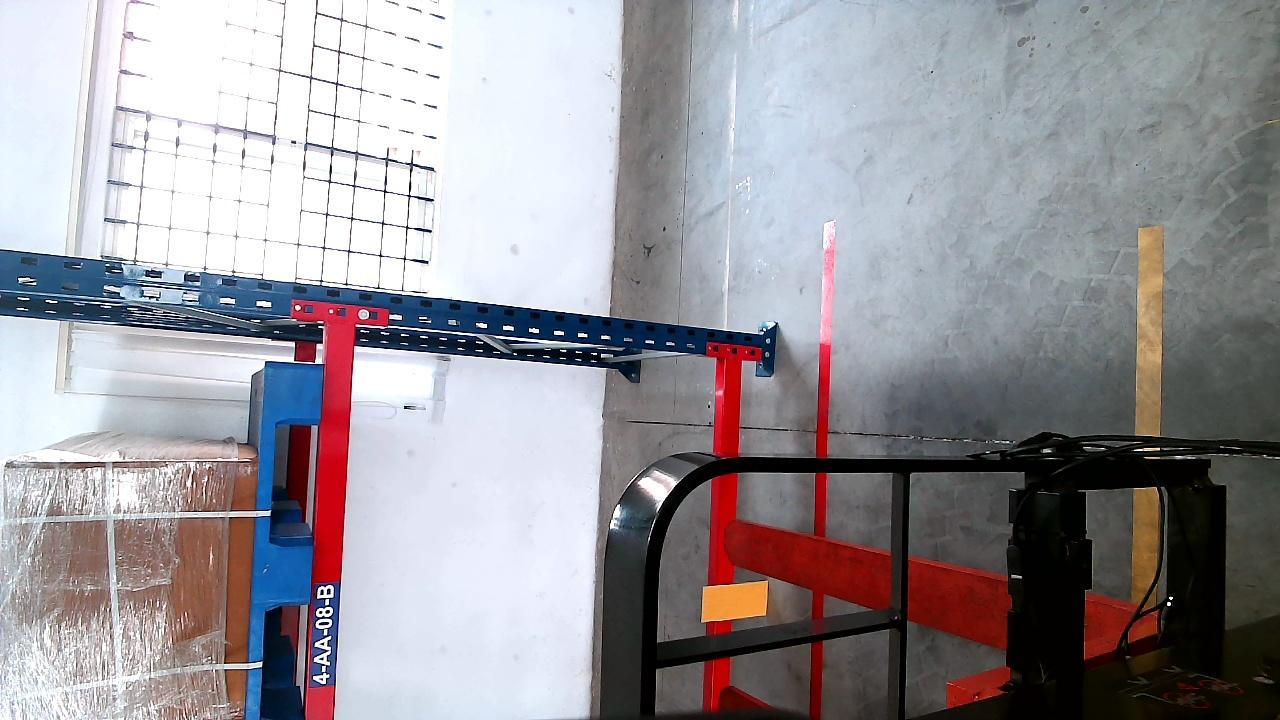red_line: (807, 223, 836, 718)
yellow_line: (1137, 222, 1163, 440)
